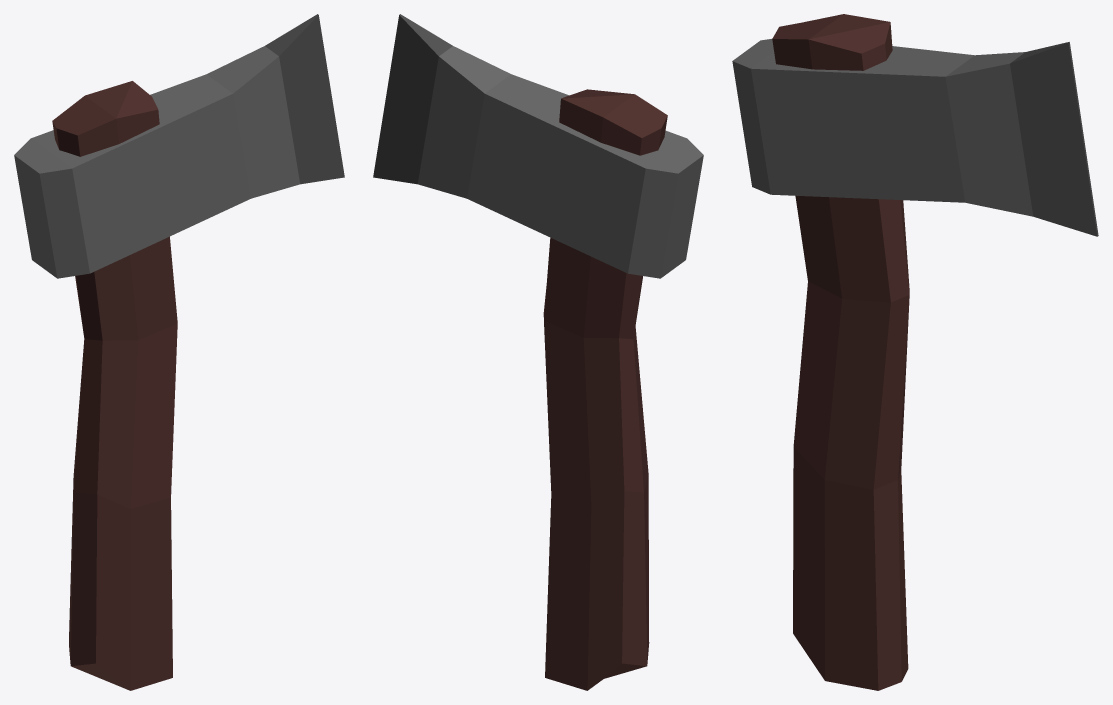
Rendered from Axe.fbx.
3 views of the same model, side by side, from view 1: azimuth 30°, elevation 25°; view 2: azimuth 150°, elevation 25°; view 3: azimuth 330°, elevation 25° (orthographic). The views are drawn at different scales.
Visible parts, largest first — view 1: Cube; view 2: Cube; view 3: Cube.
Part boxes in pixels (left/top/right/bottom): Cube: left=14, top=14, right=344, bottom=690; Cube: left=373, top=14, right=703, bottom=690; Cube: left=732, top=14, right=1098, bottom=690.
Size of the model in its own units: 221 by 409 by 49.81.
